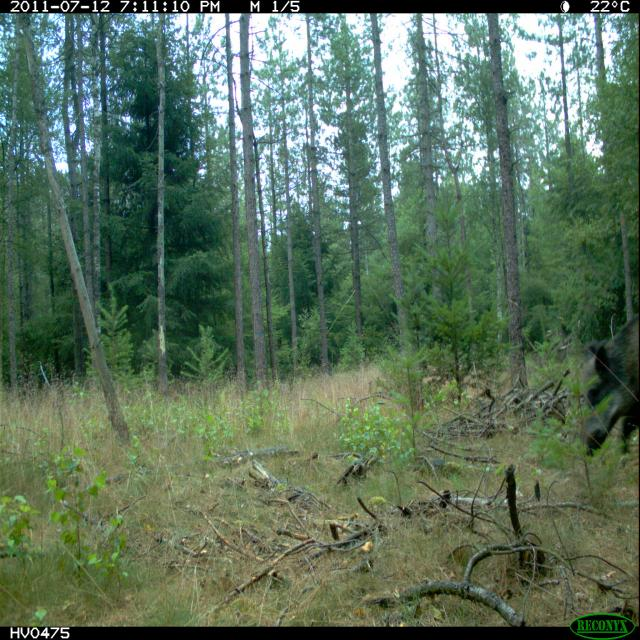boar: (579, 282, 640, 464)
